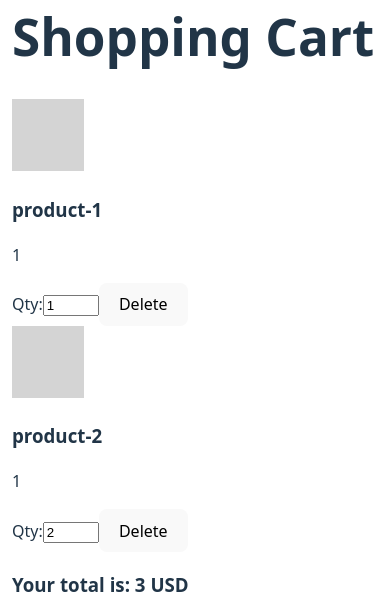
Test: Cart › deletes item correctly
The width and height of the screenshot is (390, 609).
Expected: the heading "product-1" is shown, [12,197,102,222]
Click the button with test id "delete-1": x=143, y=304 [99,282,188,326]
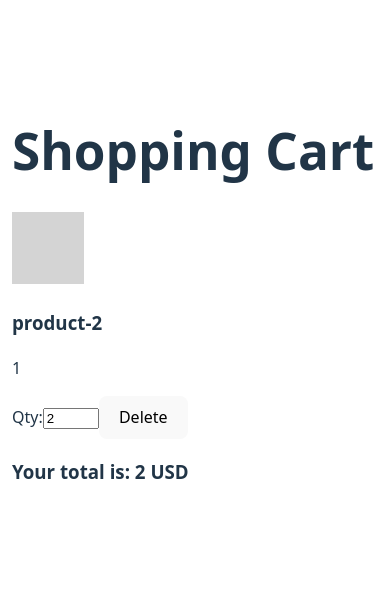
Expected: the heading "product-1" is gone
